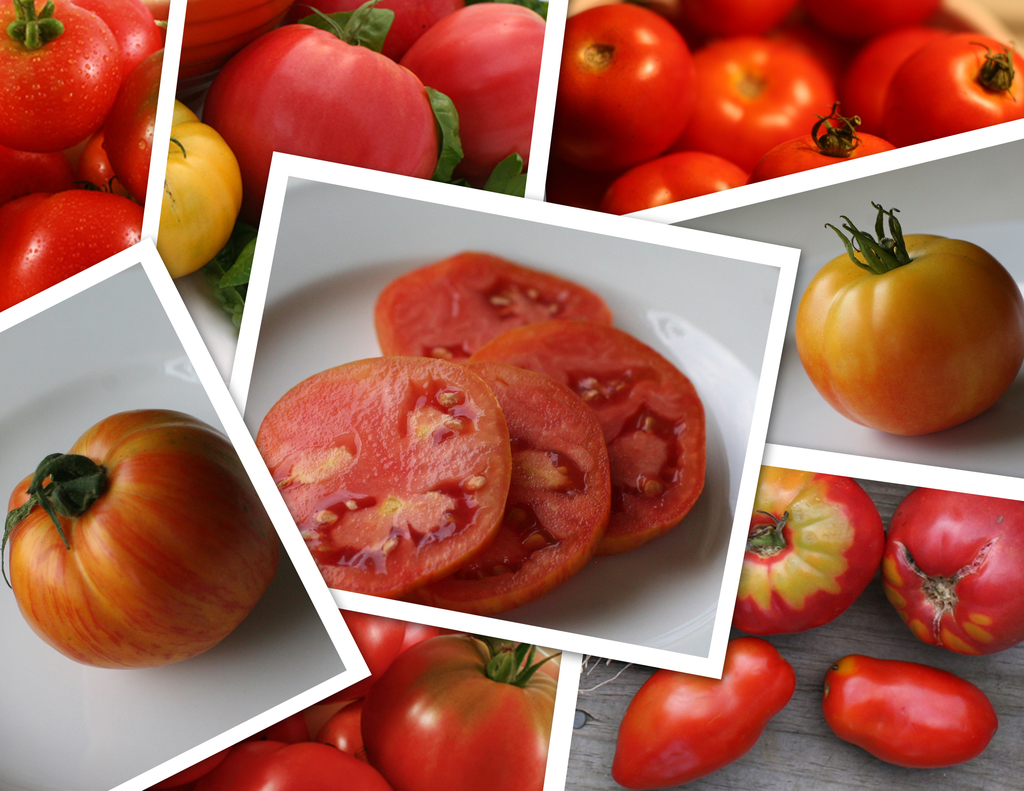Tomato: (0, 401, 275, 671), (245, 347, 508, 602), (472, 312, 704, 550), (794, 197, 1023, 437), (206, 0, 456, 208), (421, 357, 617, 610), (360, 636, 558, 790), (610, 634, 802, 790), (373, 248, 610, 367), (399, 0, 542, 186), (560, 1, 702, 174), (737, 472, 884, 636), (817, 654, 1009, 769), (892, 492, 1023, 656), (689, 35, 842, 174), (0, 180, 144, 311), (0, 0, 116, 151), (150, 90, 239, 275), (880, 28, 1023, 142), (840, 21, 957, 127), (312, 614, 449, 700), (595, 143, 755, 215), (183, 0, 291, 93), (755, 97, 885, 174), (188, 742, 396, 790), (300, 0, 466, 56), (100, 45, 160, 199), (67, 0, 176, 72), (813, 0, 944, 49), (695, 0, 801, 41), (149, 746, 243, 790), (288, 713, 366, 755)
